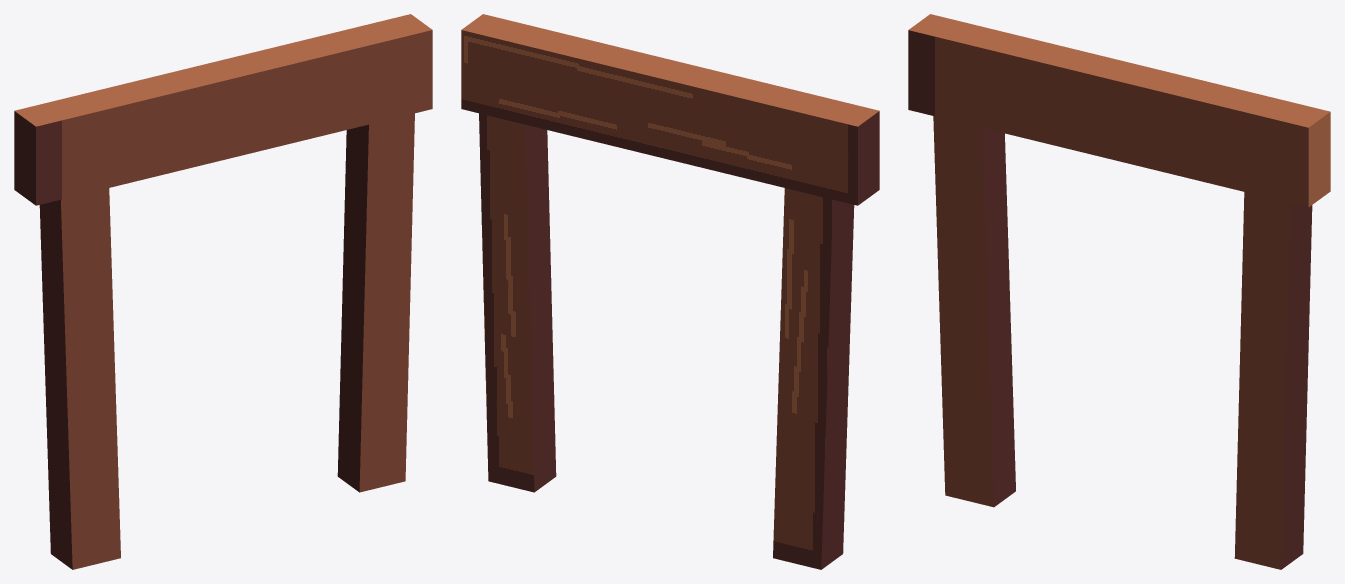
File: StarspireSign - Copy.gltf
3 views of the same model, side by side, from view 1: azimuth 30°, elevation 25°; view 2: azimuth 150°, elevation 25°; view 3: azimuth 330°, elevation 25° (orthographic).
Visible parts, largest first — view 1: mesh; view 2: mesh; view 3: mesh.
Part boxes in pixels (x1,y1,x2,y2): mesh: (14,14,432,569); mesh: (461,14,879,569); mesh: (908,14,1330,569).
Size of the model in its own units: 10.5 by 11.44 by 1.
Materials: 1 (1 with a texture image).
